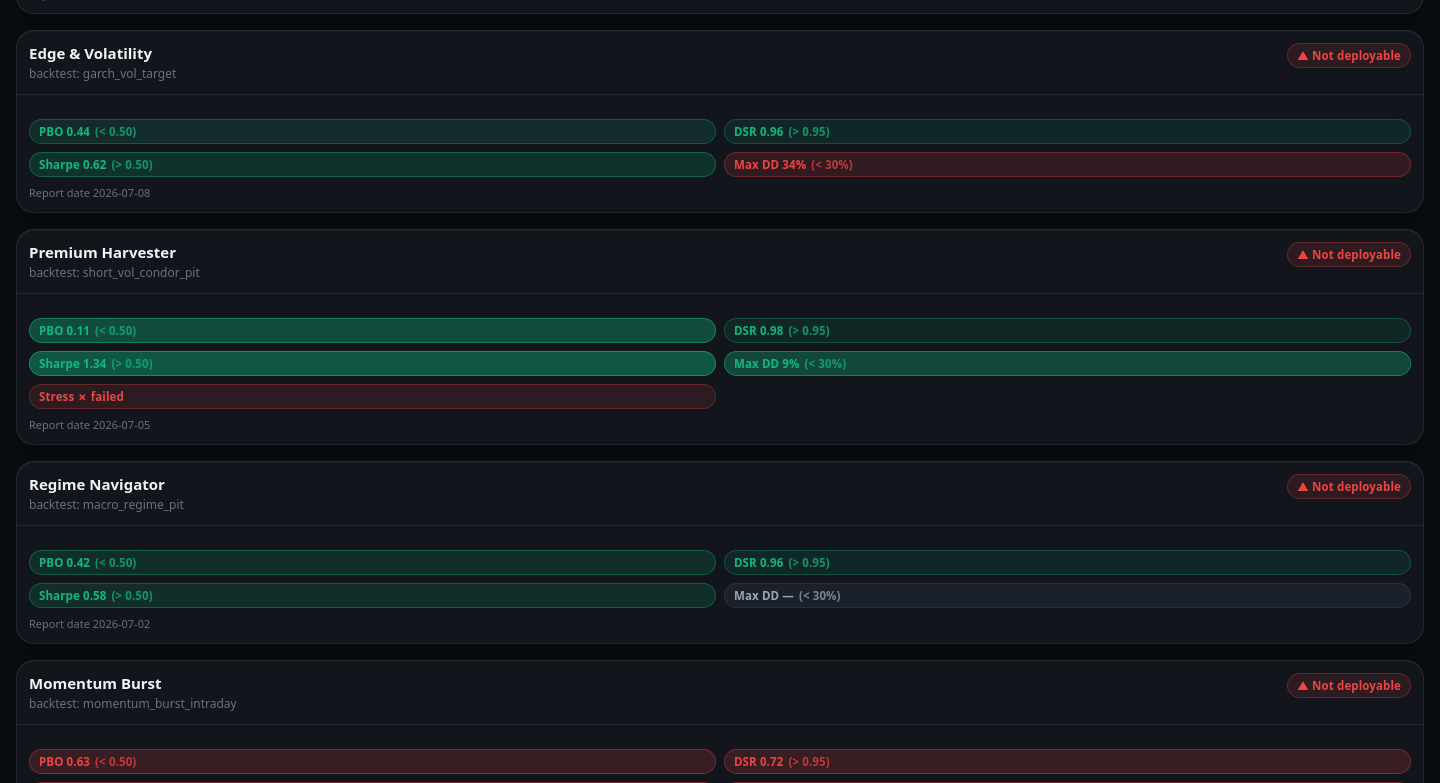
StrategyHealth screen (real mock API) › the stress-gate tooltip quotes the live stress_max_drawdown limit
(page scrolled)
Click the button "Stress ✗ failed" at (58, 396), box [29,384,716,409]
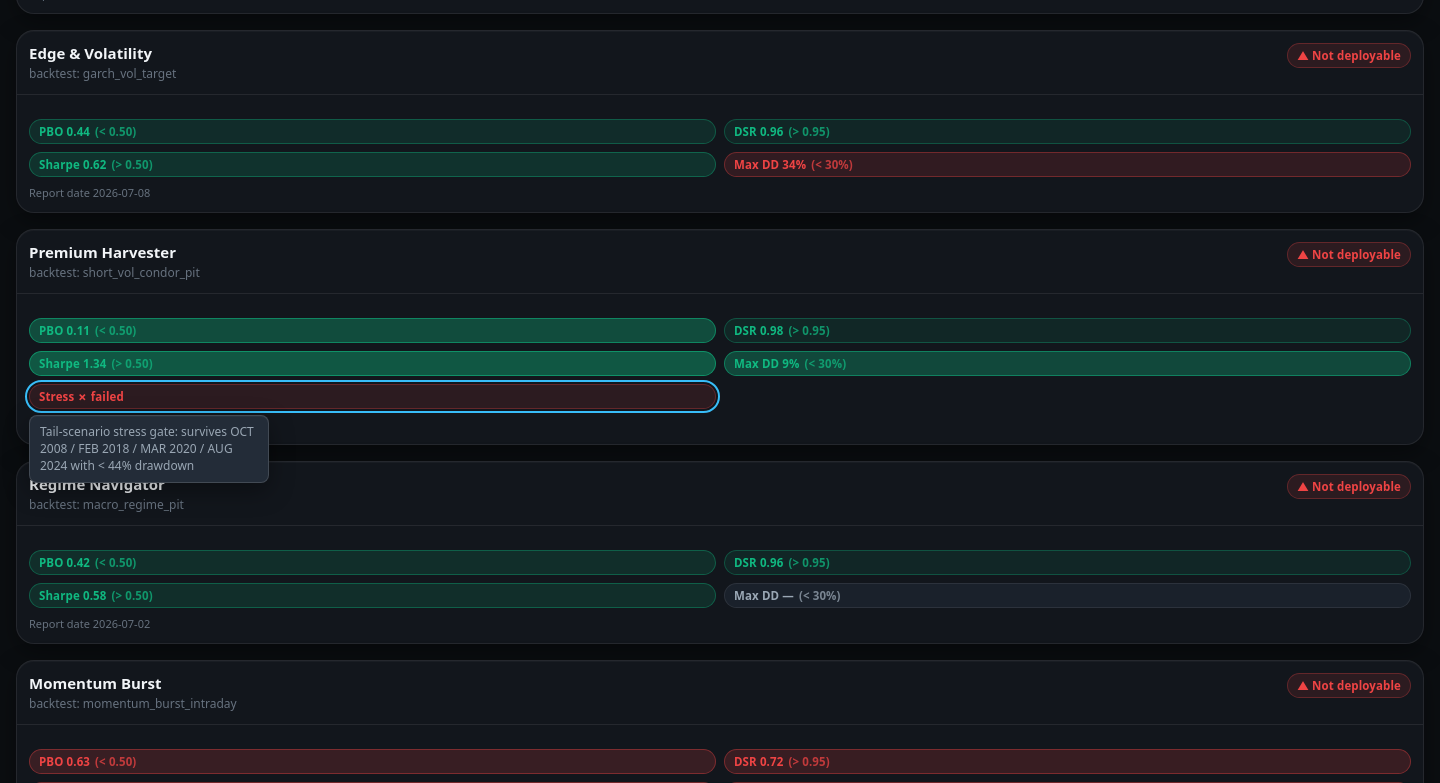
Check: the tooltip shows "Tail-scenario stress gate: survives OCT 2008 / FEB 2018 / MAR 2020 / AUG 2024 with < 44% drawdown", box [40,423,254,474]
